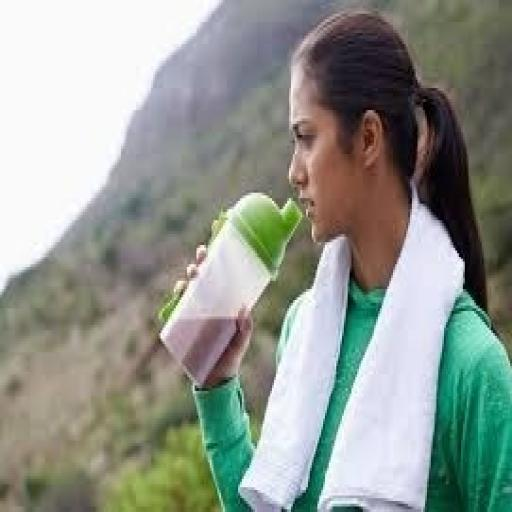drinking: (157, 190, 302, 388)
